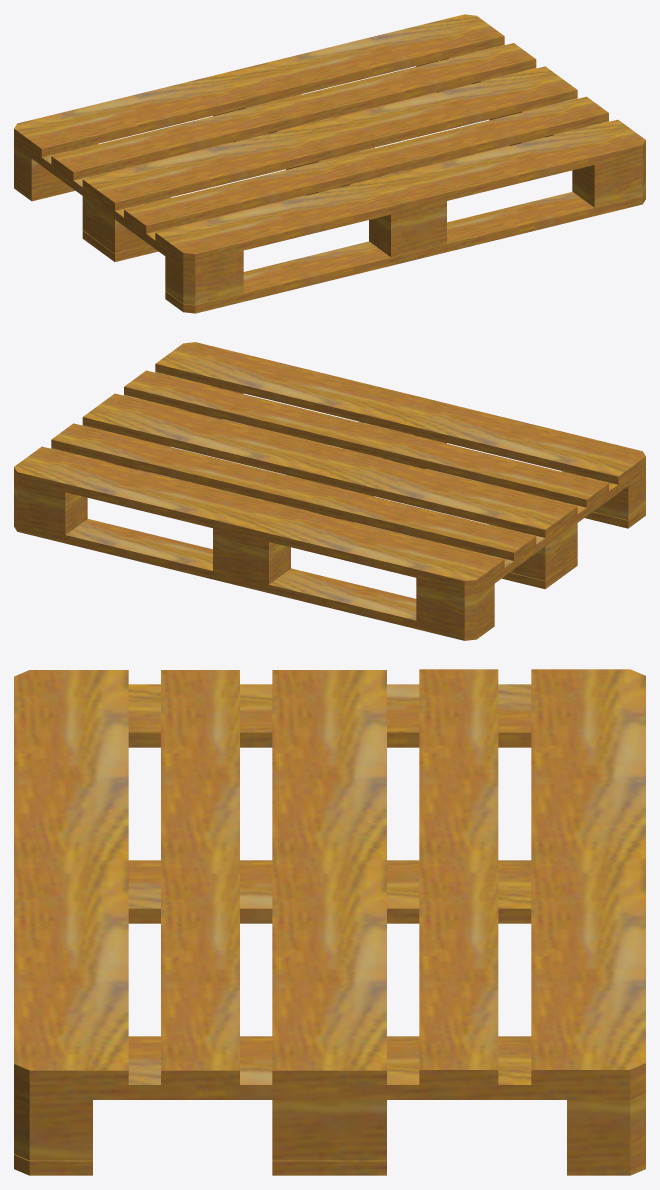
Rendered from EuroPallet.dae.
The picture shows the model from 3 angles, top to bottom: view 1: azimuth 30°, elevation 25°; view 2: azimuth 150°, elevation 25°; view 3: azimuth 270°, elevation 25°; orthographic projection. The views are drawn at different scales.
Parts seen in each view (by area): view 1: group_0, group_2, group_4, group_1, group_3, group_19, group_13, group_9, group_6, group_11, group_8, group_12 (+4 smaller); view 2: group_0, group_2, group_4, group_1, group_3, group_17, group_12, group_16, group_6, group_10, group_8, group_13 (+4 smaller); view 3: group_0, group_2, group_4, group_1, group_3, group_5, group_6, group_7, group_15, group_10, group_11, group_18 (+2 smaller).
Part boxes in pixels (box(x1,y1,x2,y2)): group_0: box(14, 14, 504, 157); group_2: box(82, 66, 577, 210); group_4: box(155, 119, 645, 262); group_1: box(51, 43, 536, 180); group_3: box(124, 96, 608, 233); group_19: box(165, 191, 645, 313); group_13: box(165, 256, 243, 304); group_9: box(369, 209, 446, 257); group_6: box(14, 137, 243, 270); group_11: box(572, 157, 645, 207); group_8: box(82, 196, 149, 253); group_12: box(14, 146, 66, 192); group_0: box(14, 446, 504, 589); group_2: box(82, 393, 577, 537); group_4: box(155, 342, 645, 484); group_1: box(51, 423, 536, 560); group_3: box(124, 370, 608, 507); group_17: box(14, 518, 494, 640); group_12: box(416, 584, 494, 632); group_16: box(213, 537, 290, 584); group_6: box(416, 464, 645, 597); group_10: box(14, 484, 87, 534); group_8: box(510, 523, 577, 580); group_13: box(593, 473, 645, 519); group_0: box(531, 669, 645, 1084); group_2: box(272, 670, 386, 1084); group_4: box(14, 670, 128, 1084); group_1: box(419, 669, 498, 1084); group_3: box(161, 670, 239, 1084); group_5: box(14, 1036, 645, 1099); group_6: box(128, 684, 531, 747); group_7: box(128, 860, 531, 923); group_15: box(272, 1100, 386, 1160); group_10: box(567, 1093, 645, 1160); group_11: box(14, 1093, 92, 1160); group_18: box(272, 1160, 386, 1175).
Size of the model in its own units: 47.24 by 31.5 by 5.83.
1 material, 1 textured.
